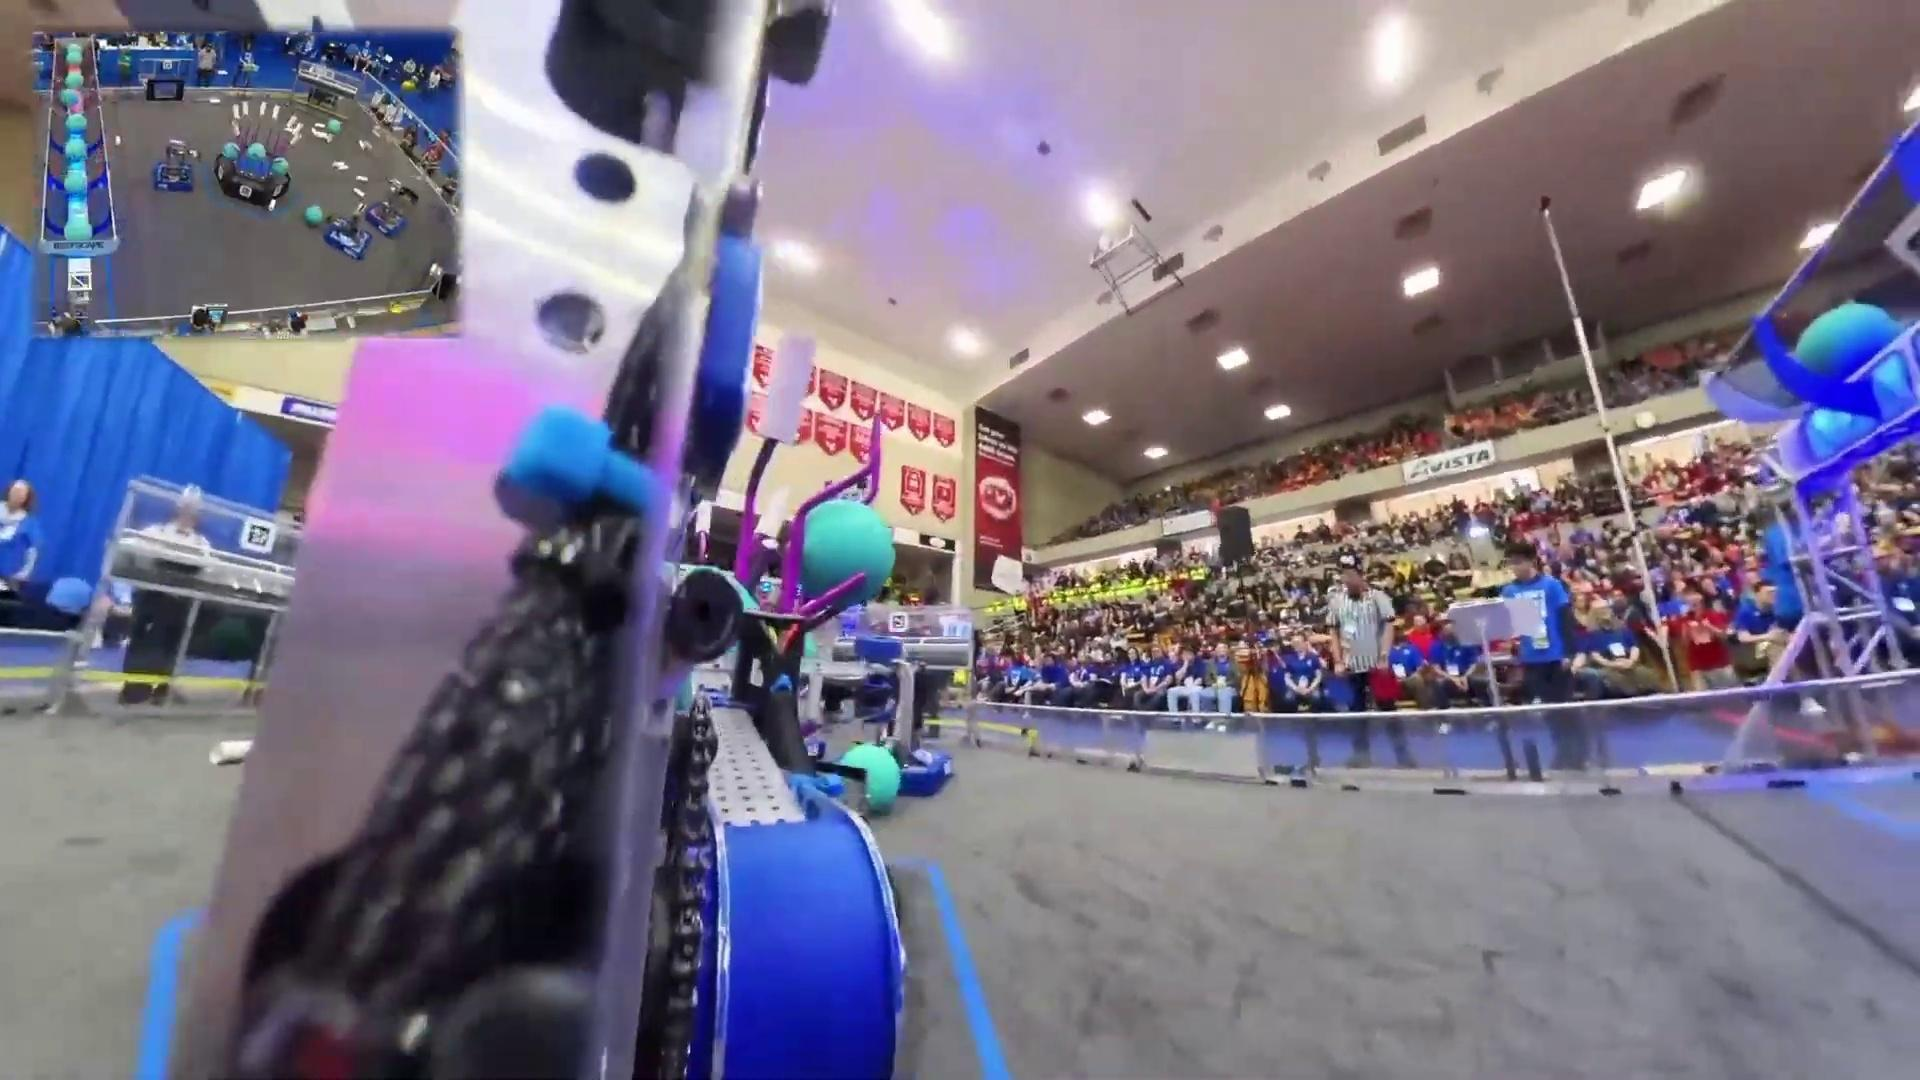robot: (891, 662, 956, 800), (319, 187, 375, 262), (364, 185, 411, 241), (153, 137, 198, 191), (800, 729, 831, 766)
